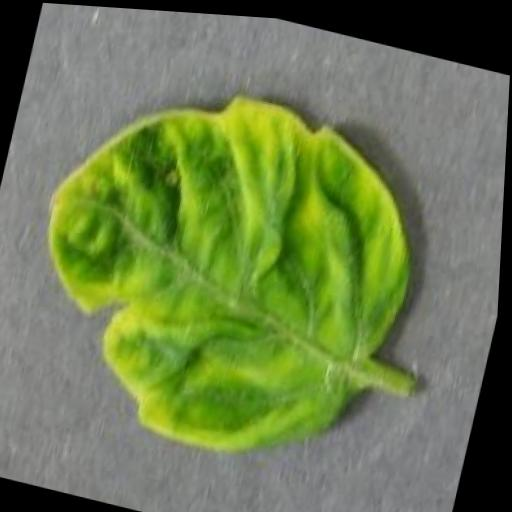Yellow Leaf Curl Virus: (1, 48, 442, 483)
